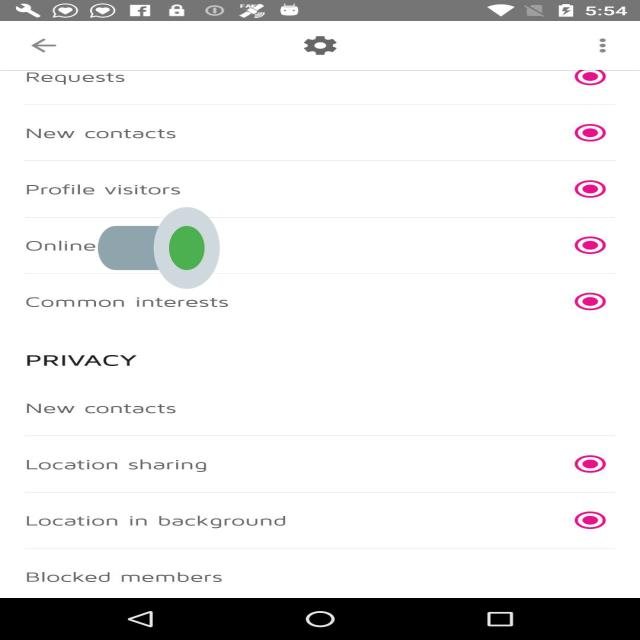social proof: (98, 172, 220, 324)
